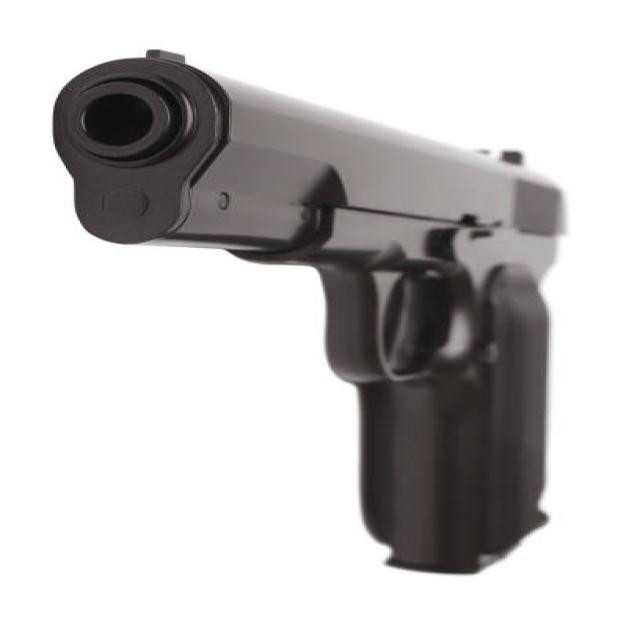pistol: (48, 46, 573, 582)
